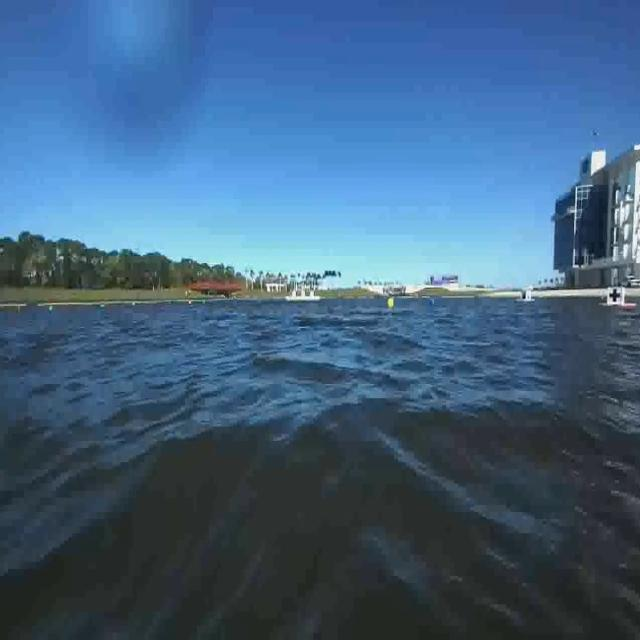yellow-buoy: (387, 295, 395, 309)
